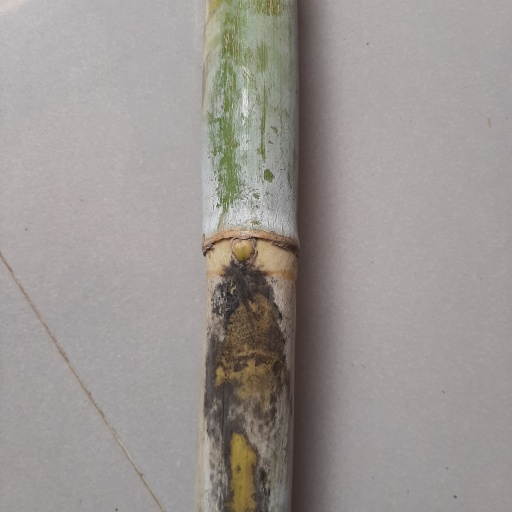Bud: (230, 239, 258, 266)
